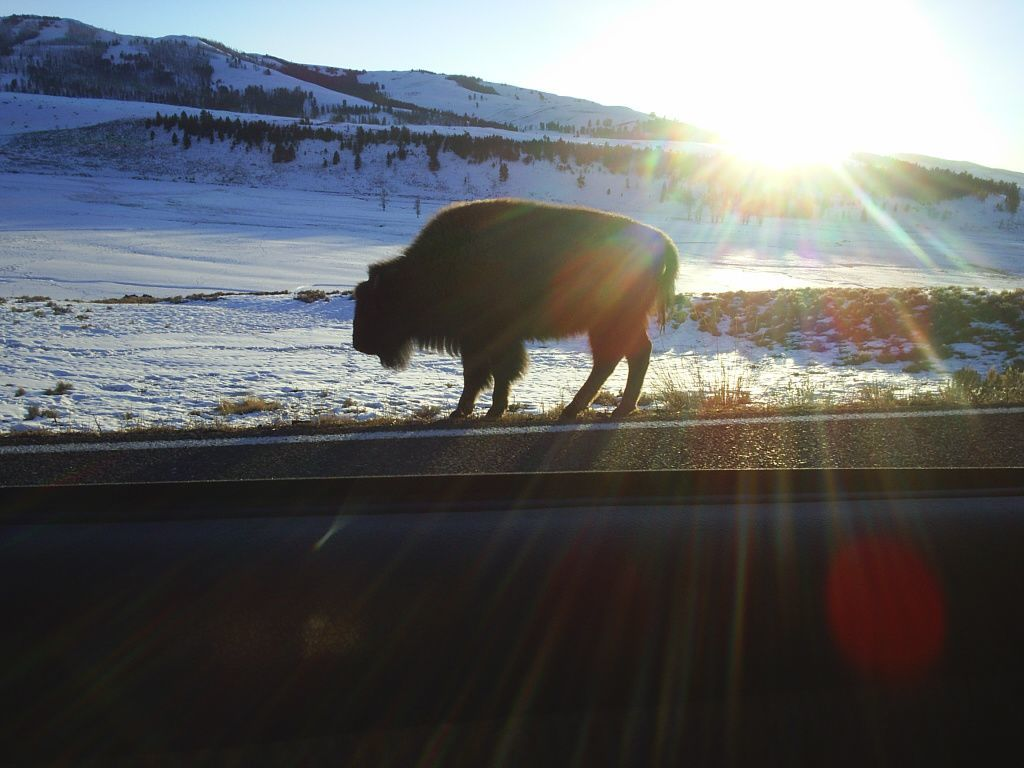Animal: (346, 194, 685, 415)
